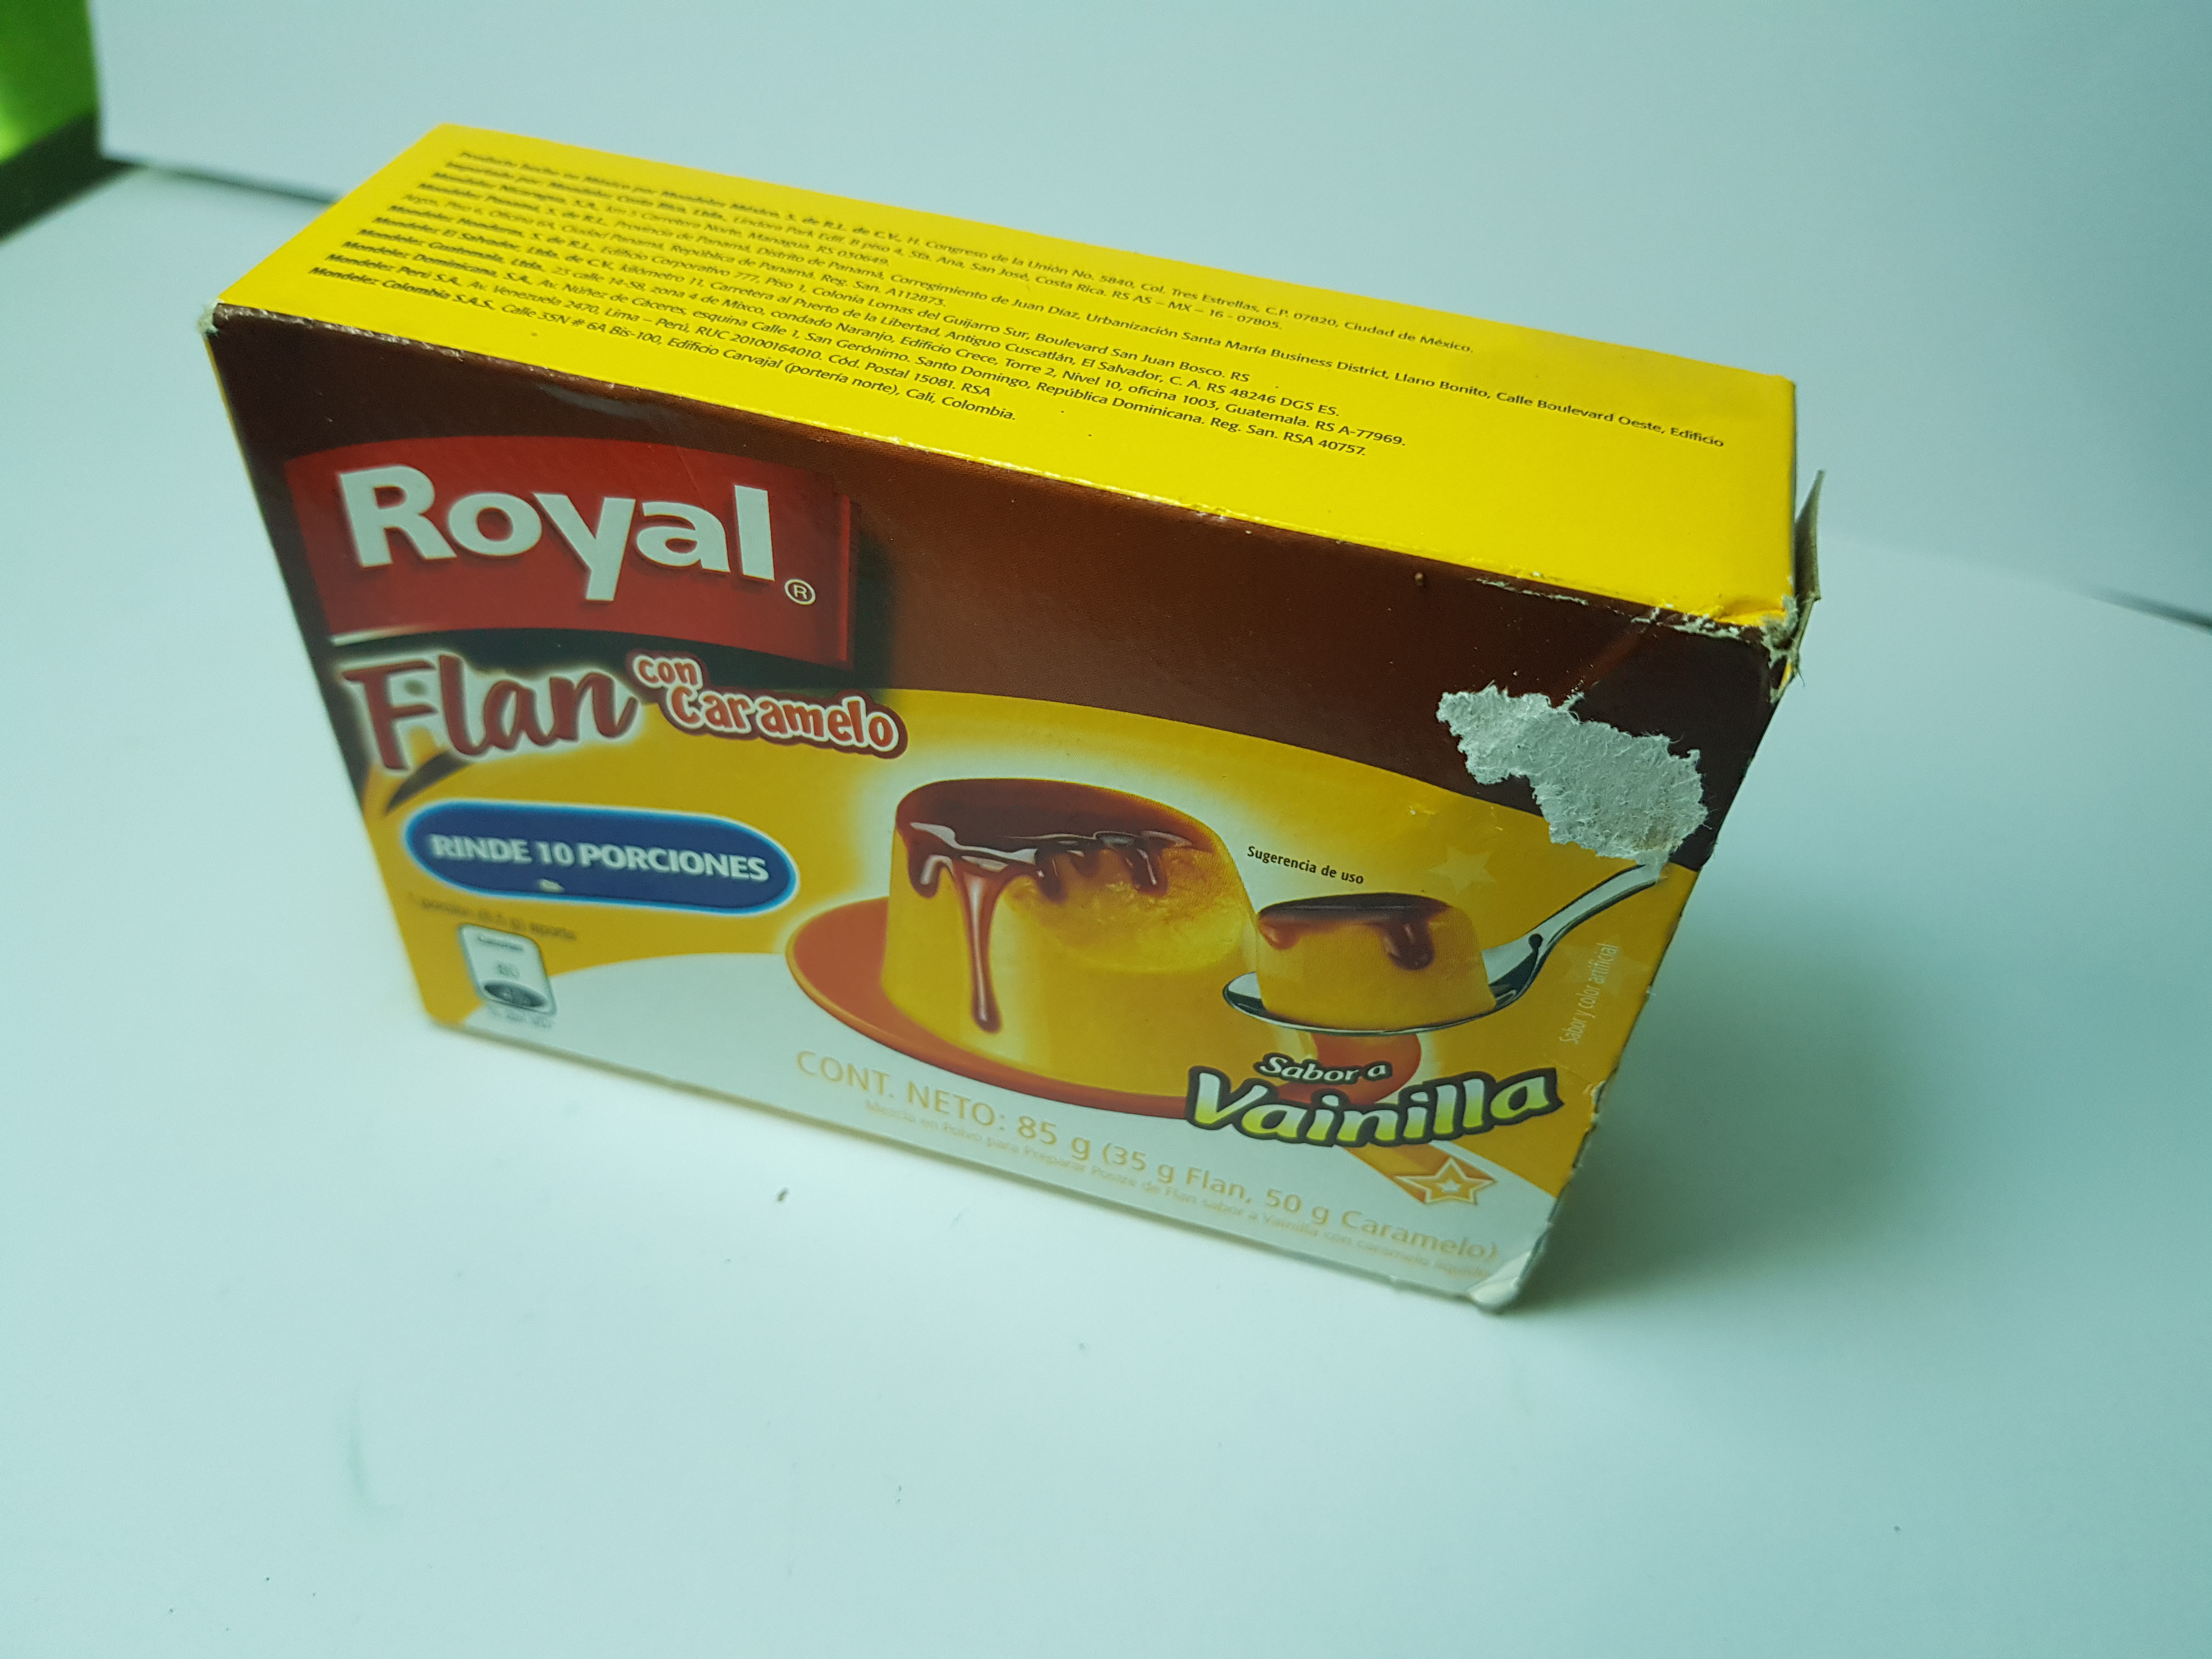flan: (181, 105, 1853, 1307)
